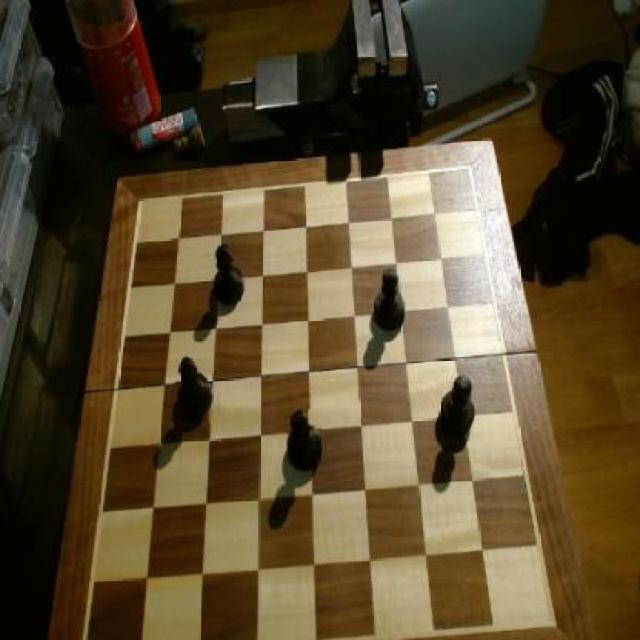black-knight: (436, 374, 474, 448), (174, 355, 213, 423), (286, 409, 322, 480), (372, 269, 407, 334), (211, 246, 246, 309)
